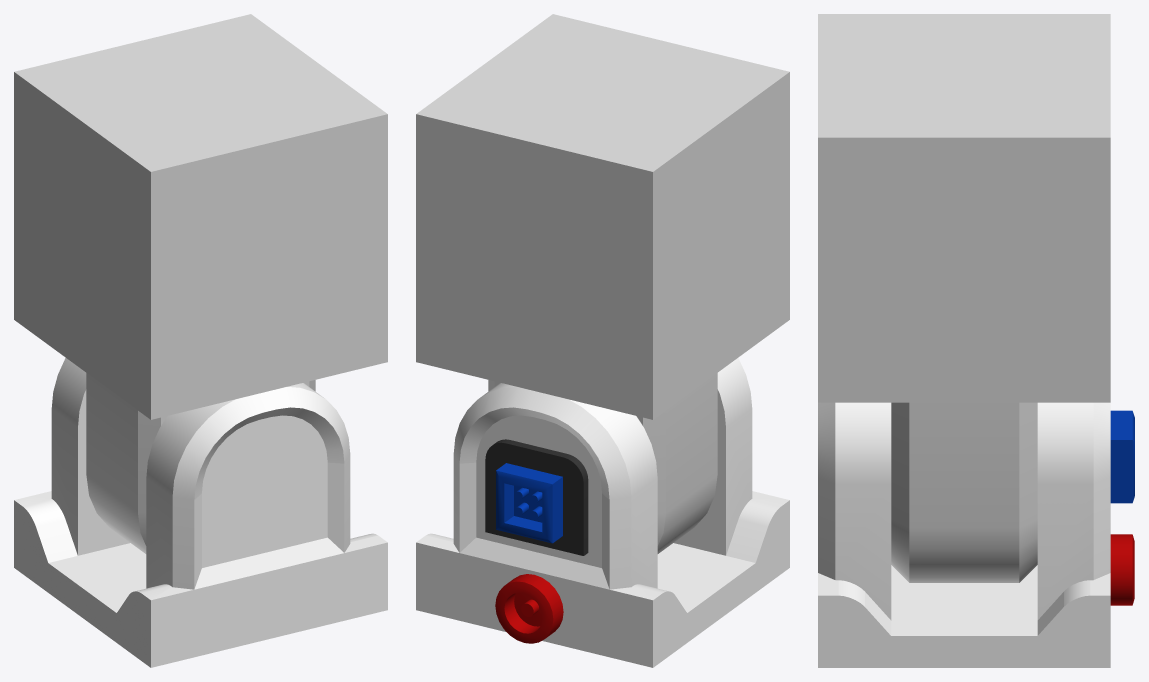
File: SmallHinge.gltf
3 renders of one model, left to right at view 1: azimuth 30°, elevation 25°; view 2: azimuth 150°, elevation 25°; view 3: azimuth 270°, elevation 25°, orthographic. The views are drawn at different scales.
Parts seen in each view (by area): view 1: slave, master; view 2: slave, master; view 3: slave, master.
Part boxes in pixels (bbox=[...]): slave: bbox=[14, 14, 387, 553]; master: bbox=[14, 358, 387, 667]; slave: bbox=[416, 14, 789, 553]; master: bbox=[416, 358, 789, 667]; slave: bbox=[818, 14, 1110, 582]; master: bbox=[818, 402, 1134, 667].
Size of the model in its own units: 0.25 by 0.5 by 0.2706.
